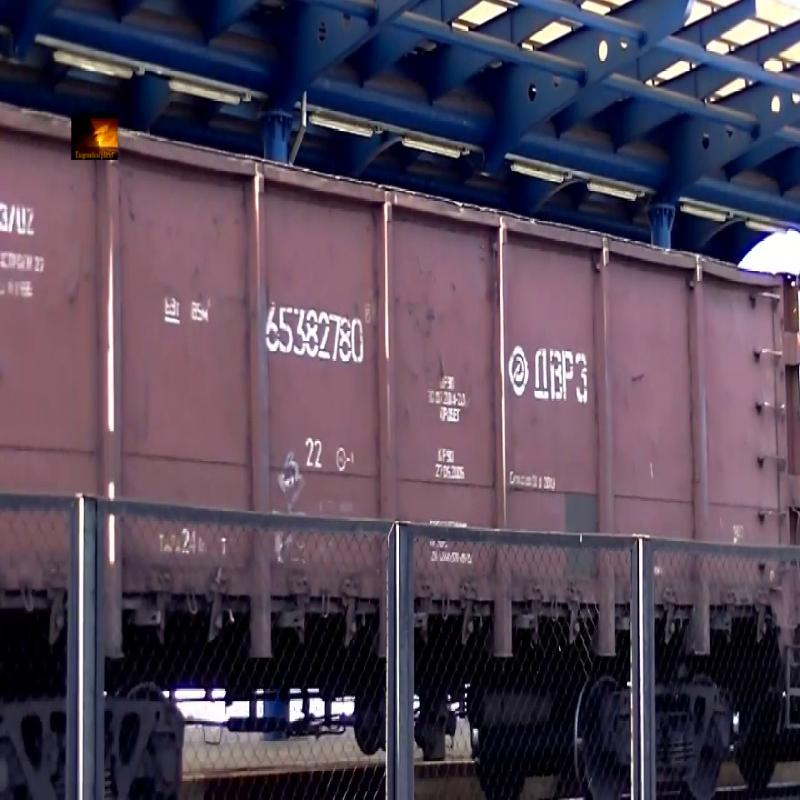train: (9, 47, 800, 775)
